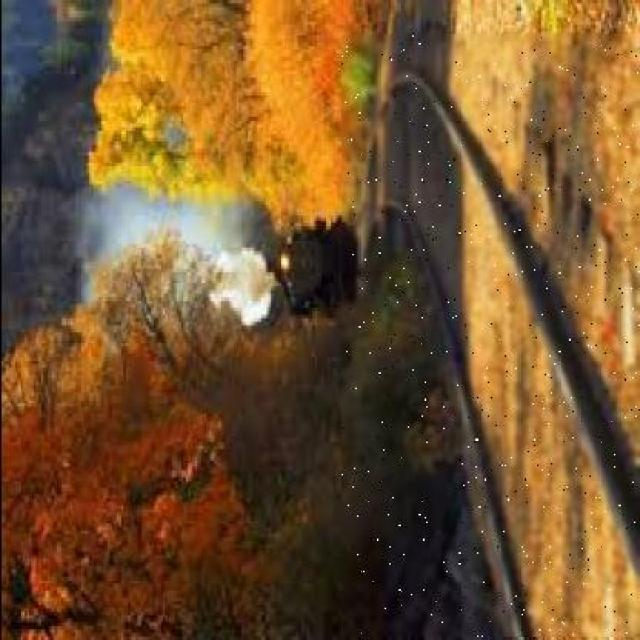rail: (341, 35, 638, 636)
